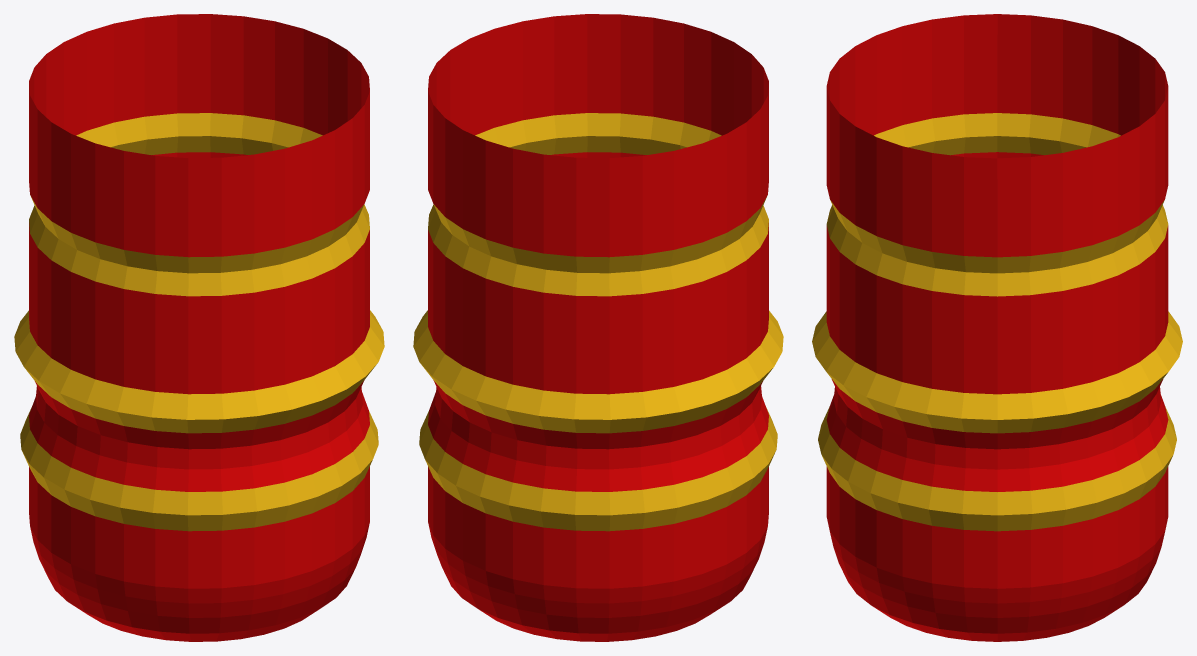
File: cuborojo1.glb
3 views of the same model, side by side, from view 1: azimuth 30°, elevation 25°; view 2: azimuth 150°, elevation 25°; view 3: azimuth 270°, elevation 25° (orthographic).
Parts seen in each view (by area): view 1: Cylinder.002; view 2: Cylinder.002; view 3: Cylinder.002.
Part boxes in pixels (bbox=[...]): Cylinder.002: bbox=[14, 14, 384, 641]; Cylinder.002: bbox=[413, 14, 783, 641]; Cylinder.002: bbox=[812, 14, 1182, 641].
Size of the model in its own units: 2.17 by 3.24 by 2.17.
